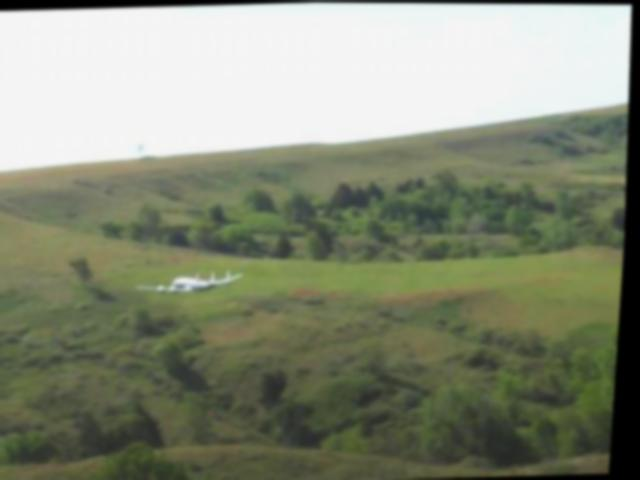iha: (139, 263, 243, 298)
